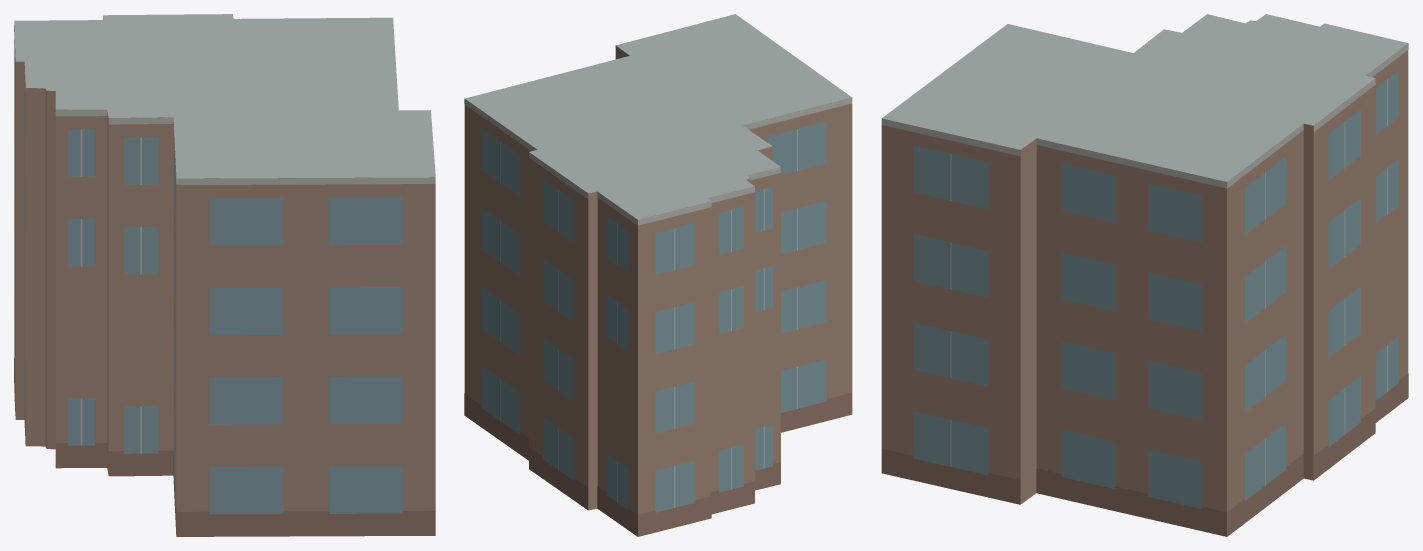
The model's file is survey-upis-32962380.glb.
3 views of the same model, side by side, from view 1: azimuth 30°, elevation 25°; view 2: azimuth 150°, elevation 25°; view 3: azimuth 270°, elevation 25° (orthographic). The views are drawn at different scales.
Parts seen in each view (by area): view 1: survey-upis-32962380.tmp; view 2: survey-upis-32962380.tmp; view 3: survey-upis-32962380.tmp.
Boxes of the visible parts, x1,y1,x2,y2 form: survey-upis-32962380.tmp: [14, 14, 435, 536]; survey-upis-32962380.tmp: [464, 14, 852, 536]; survey-upis-32962380.tmp: [881, 14, 1408, 536].
Bounding box in the file's own units: 13.52 × 13.3 × 17.9.
